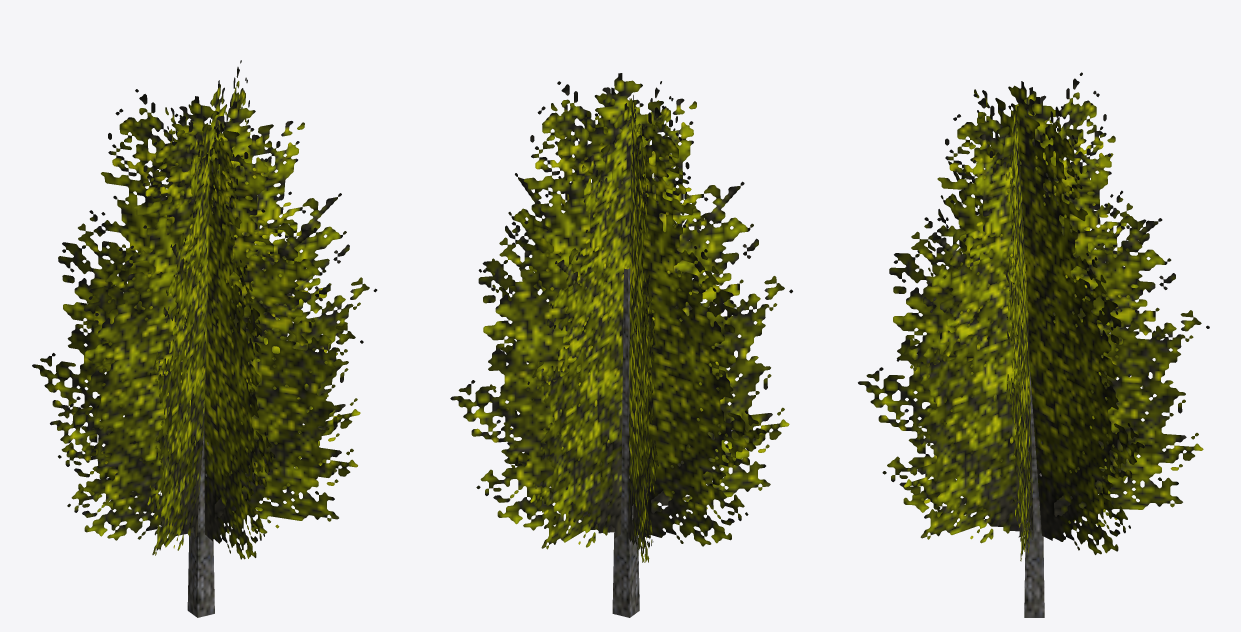
Rendered from Tree_6.fbx.
3 views of the same model, side by side, from view 1: azimuth 30°, elevation 25°; view 2: azimuth 150°, elevation 25°; view 3: azimuth 270°, elevation 25° (orthographic).
Visible parts, largest first — view 1: Tree.6; view 2: Tree.6; view 3: Tree.6.
Part boxes in pixels (box(x1,y1,x2,y2)): Tree.6: box(32, 60, 377, 617); Tree.6: box(450, 73, 792, 617); Tree.6: box(858, 72, 1209, 617).
Bounding box in the file's own units: 916 × 1363 × 869.
